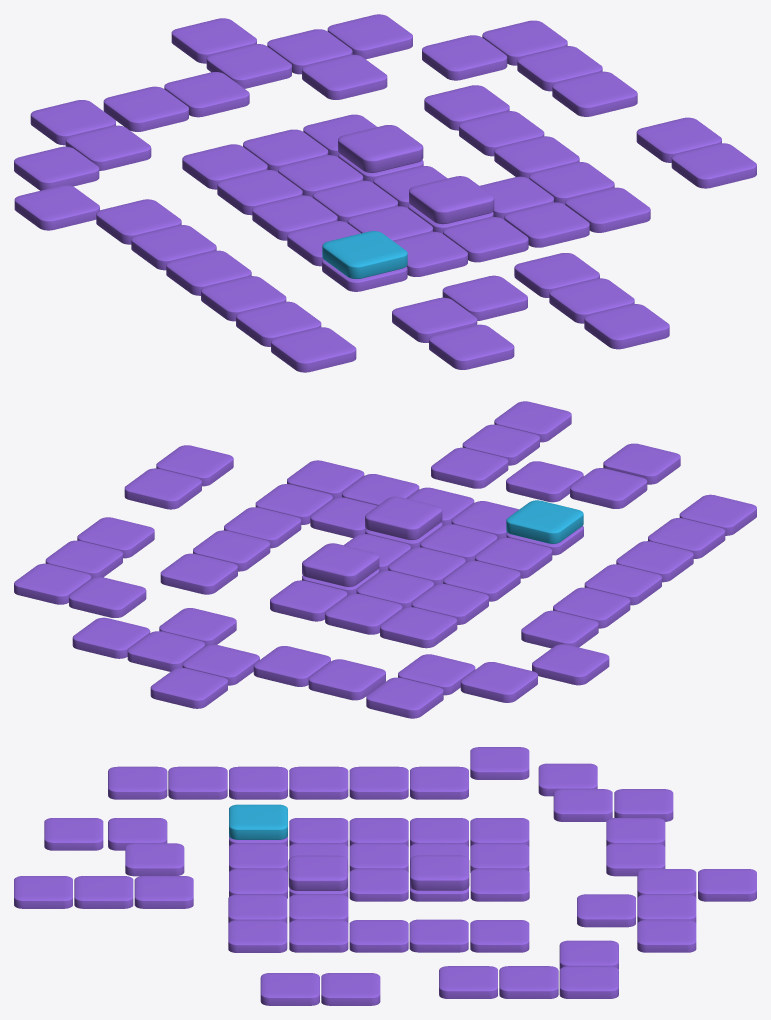
The model's file is Level3.glb.
3 renders of one model, top to bottom at view 1: azimuth 30°, elevation 25°; view 2: azimuth 150°, elevation 25°; view 3: azimuth 270°, elevation 25°, orthographic. The views are drawn at different scales.
Parts seen in each view (by area): view 1: block.002, block, block.001, platform.011, platform.028, platform.036, platform.034, platform.044, platform.017, platform.004, platform.038, platform.003 (+40 smaller); view 2: block, block.001, block.002, platform.030, platform, platform.021, platform.006, platform.014, platform.007, platform.004, platform.001, platform.037 (+40 smaller); view 3: block.001, block.002, block, platform.041, platform.036, platform.035, platform.010, platform.022, platform.017, platform.023, platform.005, platform.048 (+40 smaller).
Part boxes in pixels (left/top/right/bottom): block.002: left=409, top=176, right=494, bottom=224; block: left=322, top=231, right=407, bottom=278; block.001: left=338, top=125, right=423, bottom=172; platform.011: left=671, top=143, right=756, bottom=188; platform.028: left=422, top=35, right=507, bottom=80; platform.036: left=271, top=327, right=356, bottom=372; platform.034: left=584, top=304, right=669, bottom=349; platform.044: left=552, top=71, right=637, bottom=116; platform.017: left=302, top=54, right=387, bottom=99; platform.004: left=103, top=86, right=188, bottom=131; platform.038: left=429, top=324, right=514, bottom=369; platform.003: left=14, top=185, right=99, bottom=230; block: left=506, top=500, right=583, bottom=543; block.001: left=302, top=543, right=379, bottom=586; block.002: left=365, top=496, right=442, bottom=539; platform.030: left=160, top=553, right=237, bottom=594; platform: left=366, top=677, right=443, bottom=718; platform.021: left=431, top=447, right=508, bottom=488; platform.006: left=124, top=468, right=201, bottom=509; platform.014: left=150, top=667, right=227, bottom=708; platform.007: left=380, top=607, right=457, bottom=648; platform.004: left=308, top=659, right=385, bottom=700; platform.001: left=460, top=662, right=537, bottom=702; platform.037: left=570, top=468, right=647, bottom=508; block.001: left=410, top=855, right=469, bottom=890; block.002: left=288, top=855, right=347, bottom=890; block: left=229, top=804, right=287, bottom=839; platform.041: left=409, top=919, right=468, bottom=952; platform.036: left=108, top=766, right=167, bottom=799; platform.035: left=168, top=766, right=227, bottom=799; platform.010: left=349, top=766, right=408, bottom=799; platform.022: left=289, top=766, right=348, bottom=799; platform.017: left=577, top=894, right=635, bottom=927; platform.023: left=229, top=766, right=287, bottom=799; platform.005: left=410, top=766, right=468, bottom=799; platform.048: left=125, top=843, right=184, bottom=876.
Size of what is drawn, in the model's own units: 24.34 by 1.04 by 30.47.
